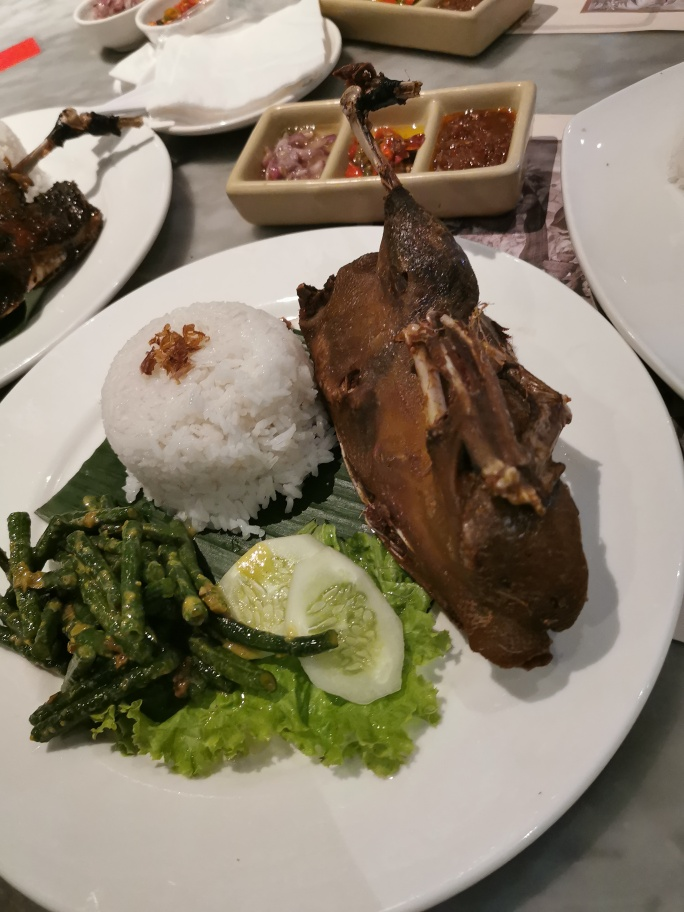bebek goreng: (284, 56, 608, 697)
nasi putih: (103, 290, 336, 526)
